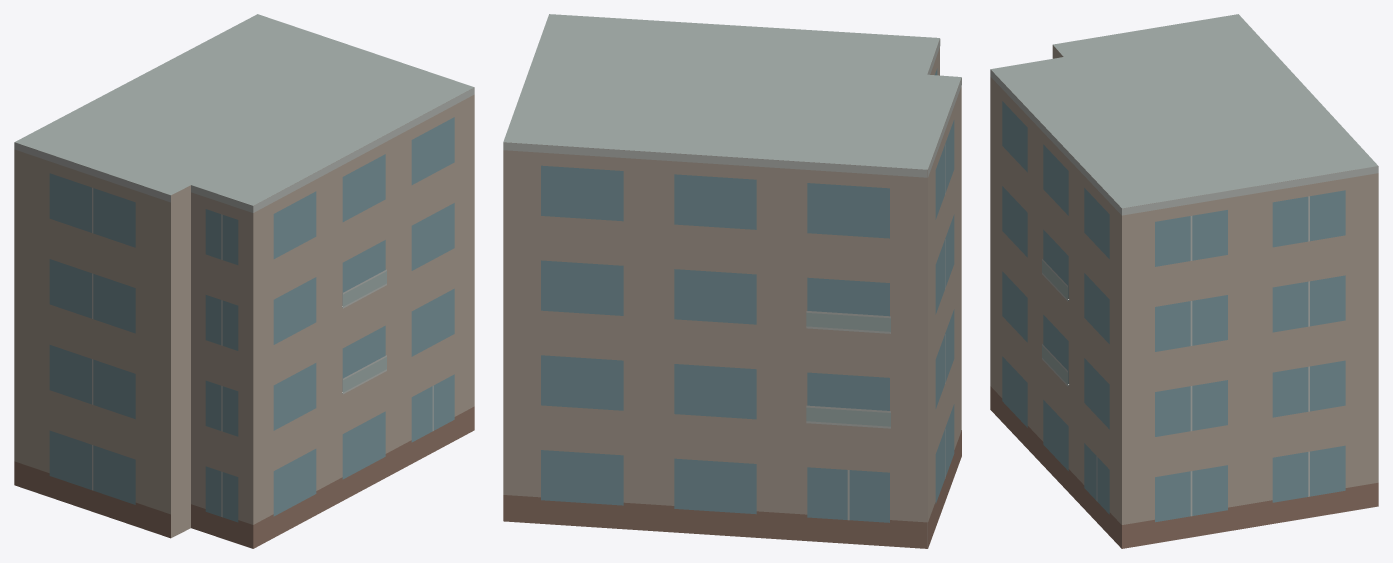
File: survey-upis-32687759.glb
3 views of the same model, side by side, from view 1: azimuth 30°, elevation 25°; view 2: azimuth 150°, elevation 25°; view 3: azimuth 270°, elevation 25° (orthographic). The views are drawn at different scales.
Parts seen in each view (by area): view 1: survey-upis-32687759.tmp; view 2: survey-upis-32687759.tmp; view 3: survey-upis-32687759.tmp.
Part boxes in pixels (x1,y1,x2,y2): survey-upis-32687759.tmp: [14, 14, 474, 548]; survey-upis-32687759.tmp: [503, 14, 961, 548]; survey-upis-32687759.tmp: [990, 14, 1378, 548].
Bounding box in the file's own units: 14.22 × 11.6 × 11.99.
